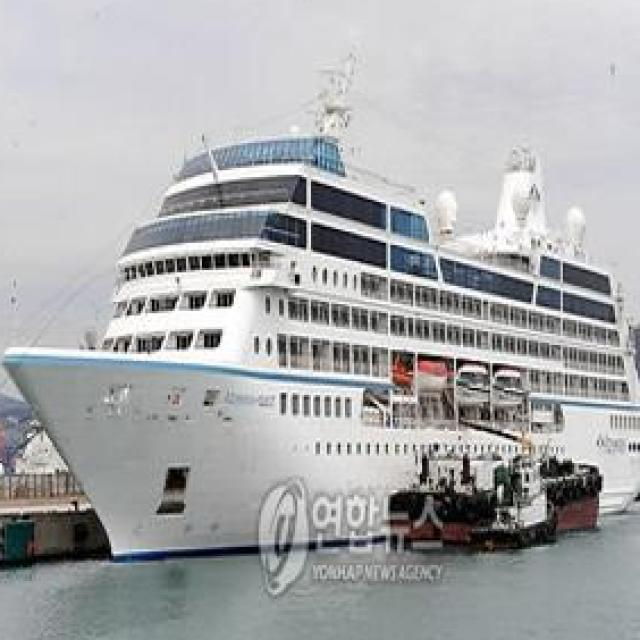sailboat: (11, 95, 640, 542)
